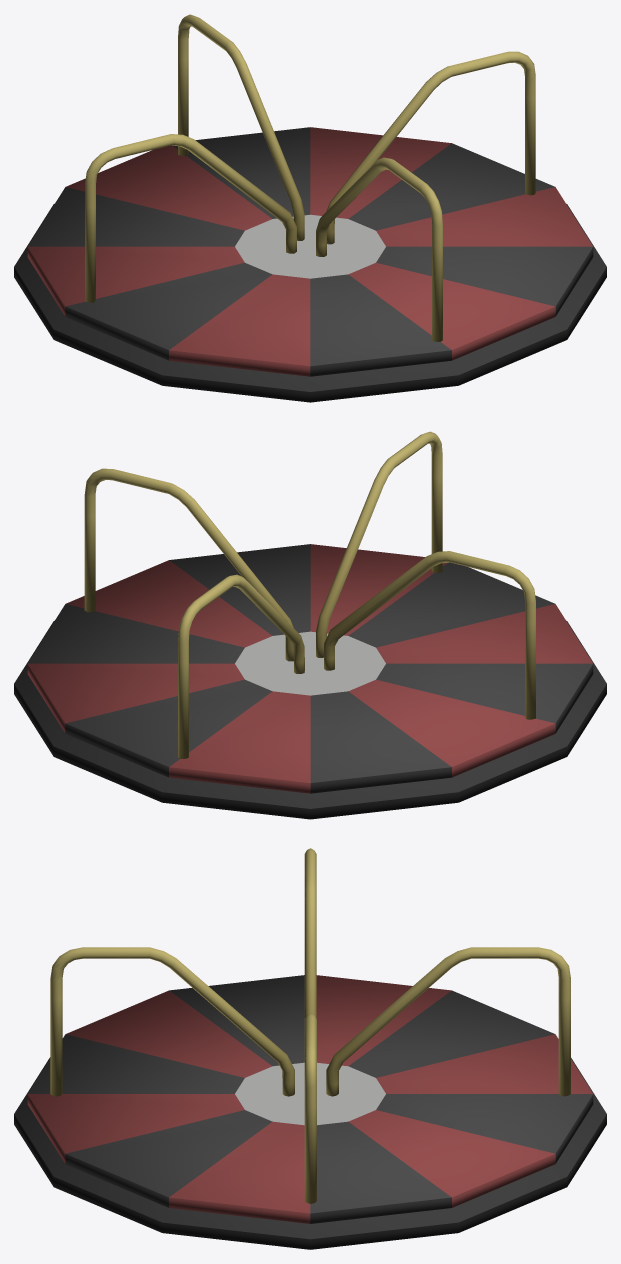
3 renders of one model, top to bottom at view 1: azimuth 30°, elevation 25°; view 2: azimuth 150°, elevation 25°; view 3: azimuth 270°, elevation 25°, orthographic.
Parts seen in each view (by area): view 1: anim_0_90_0; view 2: anim_0_90_0; view 3: anim_0_90_0.
Part boxes in pixels (left/top/right/bottom): anim_0_90_0: left=14, top=14, right=606, bottom=402; anim_0_90_0: left=14, top=431, right=606, bottom=819; anim_0_90_0: left=14, top=848, right=606, bottom=1249.
Bounding box in the file's own units: 0.5 × 0.1649 × 0.5.
